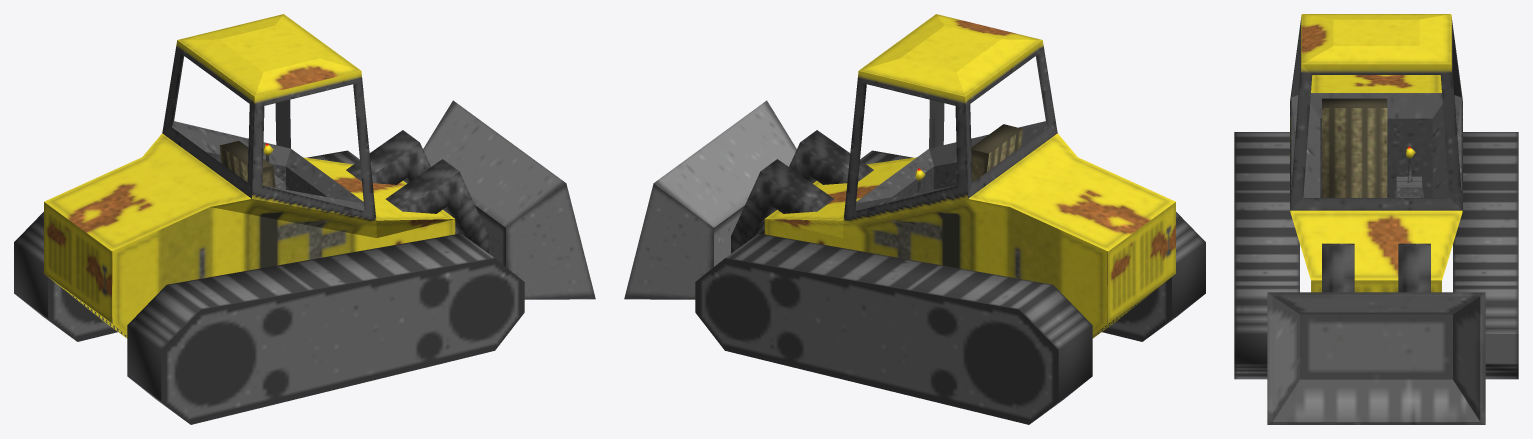
Rendered from bulldozer.fbx.
3 renders of one model, left to right at view 1: azimuth 30°, elevation 25°; view 2: azimuth 150°, elevation 25°; view 3: azimuth 270°, elevation 25°, orthographic. The views are drawn at different scales.
Visible parts, largest first — view 1: Bulldozer, CTrack, Inside; view 2: Bulldozer, CTrack, Inside; view 3: Bulldozer, CTrack, Inside.
Part boxes in pixels (box(x1,y1,x2,y2)): Bulldozer: box(44, 14, 595, 338); CTrack: box(14, 150, 524, 424); Inside: box(219, 141, 285, 189); Bulldozer: box(624, 14, 1175, 338); CTrack: box(695, 150, 1205, 424); Inside: box(915, 124, 1022, 192); Bulldozer: box(1267, 14, 1485, 424); CTrack: box(1234, 132, 1518, 379); Inside: box(1322, 98, 1423, 197).
Bounding box in the file's own units: 4.7 × 2.78 × 2.6.
